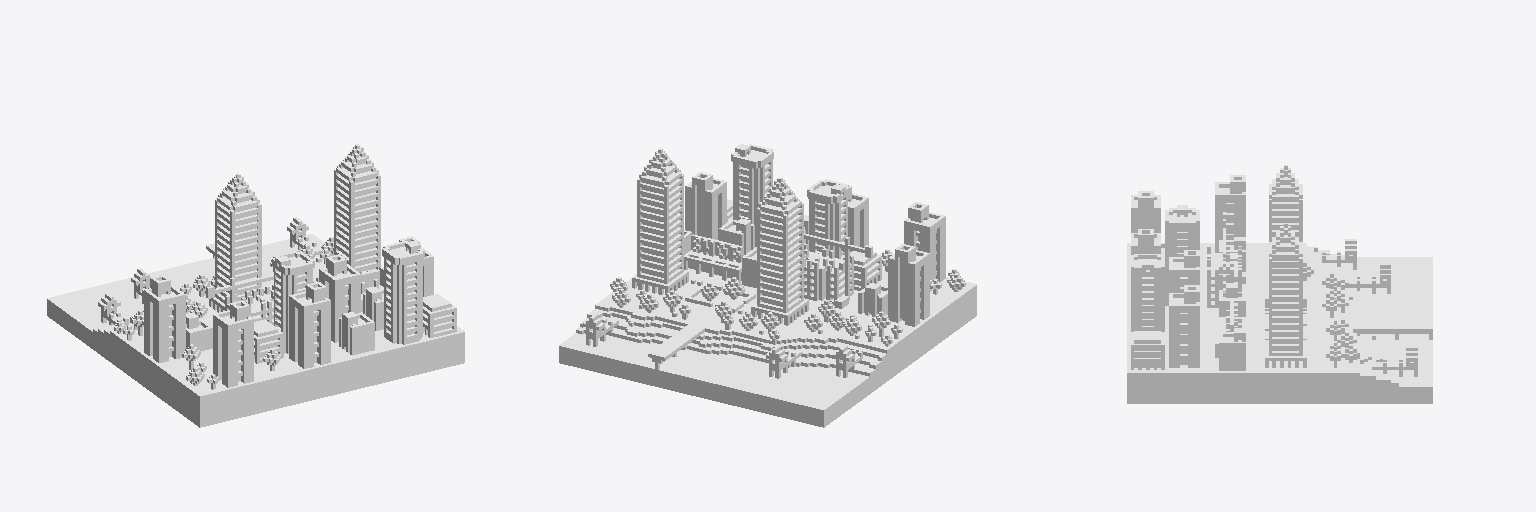
File: City.obj
3 renders of one model, left to right at view 1: azimuth 30°, elevation 25°; view 2: azimuth 150°, elevation 25°; view 3: azimuth 270°, elevation 25°, orthographic.
Parts seen in each view (by area): view 1: City; view 2: City; view 3: City.
Part boxes in pixels (x1,y1,x2,y2): City: (47,144,464,427); City: (559,144,976,427); City: (1127,165,1432,403).
Bounding box in the file's own units: 80 × 48 × 80.